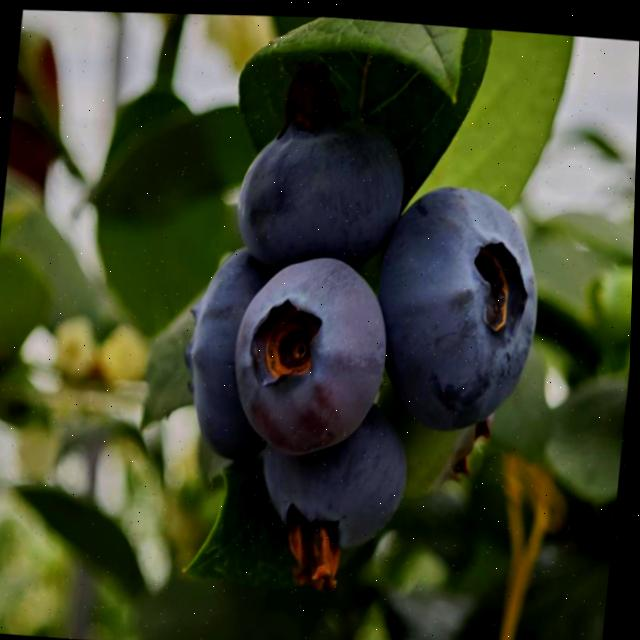RipeBlueBerry: (363, 173, 553, 438), (224, 238, 395, 460), (230, 93, 413, 276), (249, 398, 416, 563), (175, 234, 283, 464)
